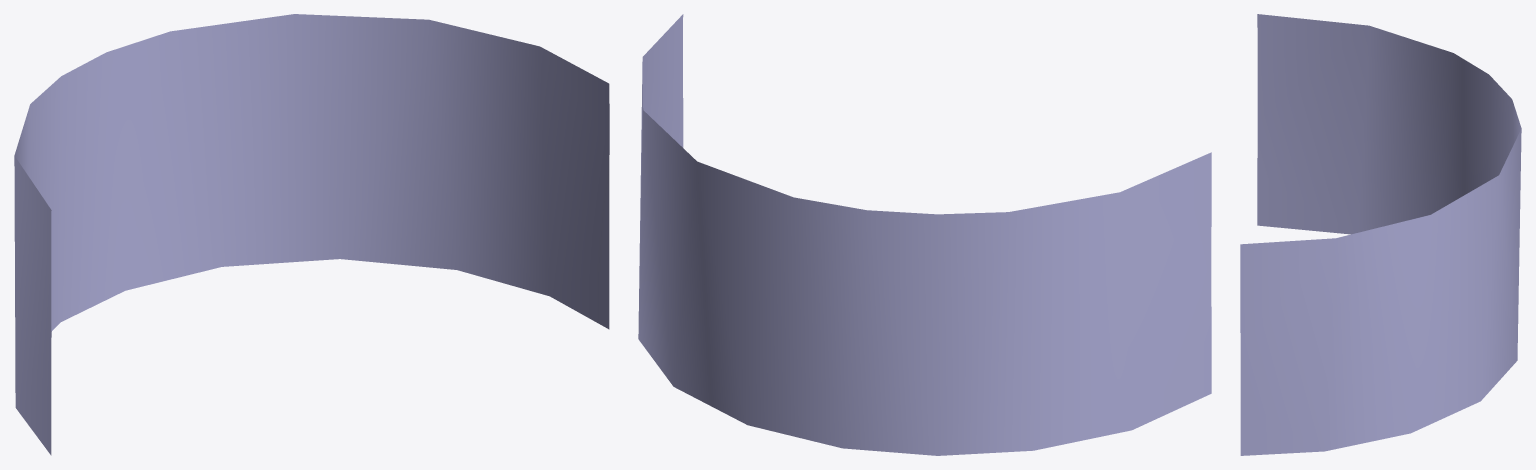
Rendered from original-43.obj.
The picture shows the model from 3 angles, left to right: view 1: azimuth 30°, elevation 25°; view 2: azimuth 150°, elevation 25°; view 3: azimuth 270°, elevation 25°; orthographic projection. The views are drawn at different scales.
Parts seen in each view (by area): view 1: Group35/mesh40/mesh40-geometry#mesh40-geometry; view 2: Group35/mesh40/mesh40-geometry#mesh40-geometry; view 3: Group35/mesh40/mesh40-geometry#mesh40-geometry.
Boxes of the visible parts, x1,y1,x2,y2 form: Group35/mesh40/mesh40-geometry#mesh40-geometry: (14, 14, 609, 455); Group35/mesh40/mesh40-geometry#mesh40-geometry: (638, 14, 1211, 455); Group35/mesh40/mesh40-geometry#mesh40-geometry: (1240, 14, 1521, 455).
Bounding box in the file's own units: 0.3165 × 0.1358 × 0.1633.
